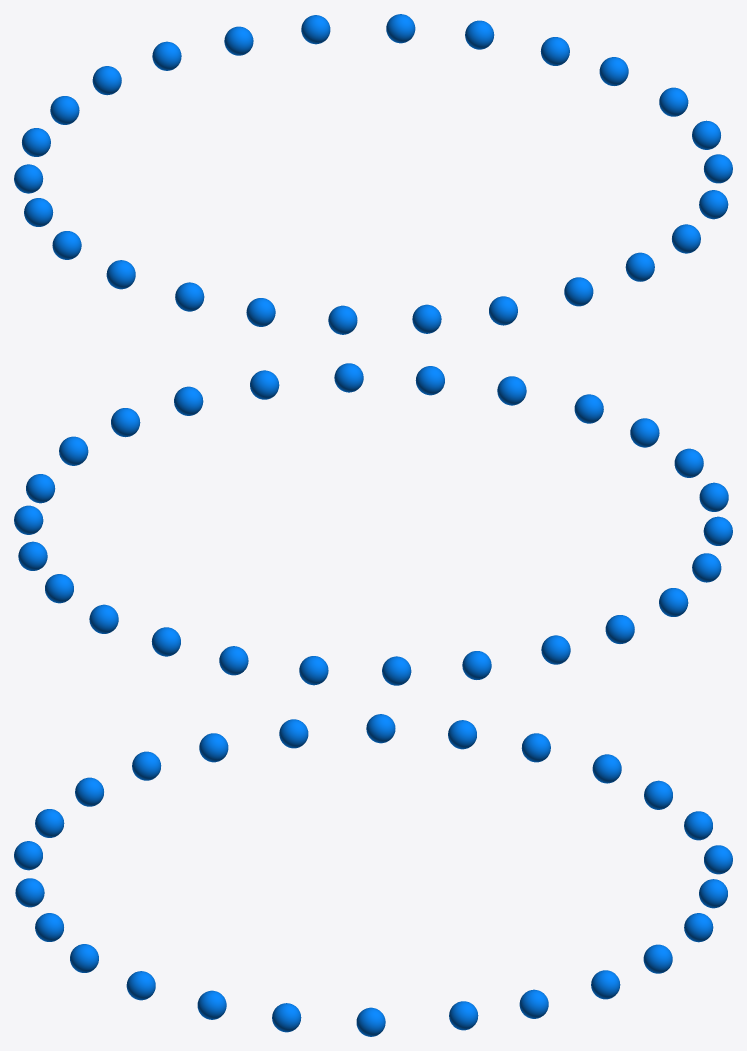
3 views of the same model, one above another, from view 1: azimuth 30°, elevation 25°; view 2: azimuth 150°, elevation 25°; view 3: azimuth 270°, elevation 25° (orthographic).
Parts seen in each view (by area): view 1: Sphere052; view 2: Sphere052; view 3: Sphere052.
Boxes of the visible parts, x1,y1,x2,y2 form: Sphere052: (14, 14, 732, 334); Sphere052: (14, 363, 732, 685); Sphere052: (14, 714, 732, 1036).
Size of the model in its own units: 204 by 8.22 by 202.
